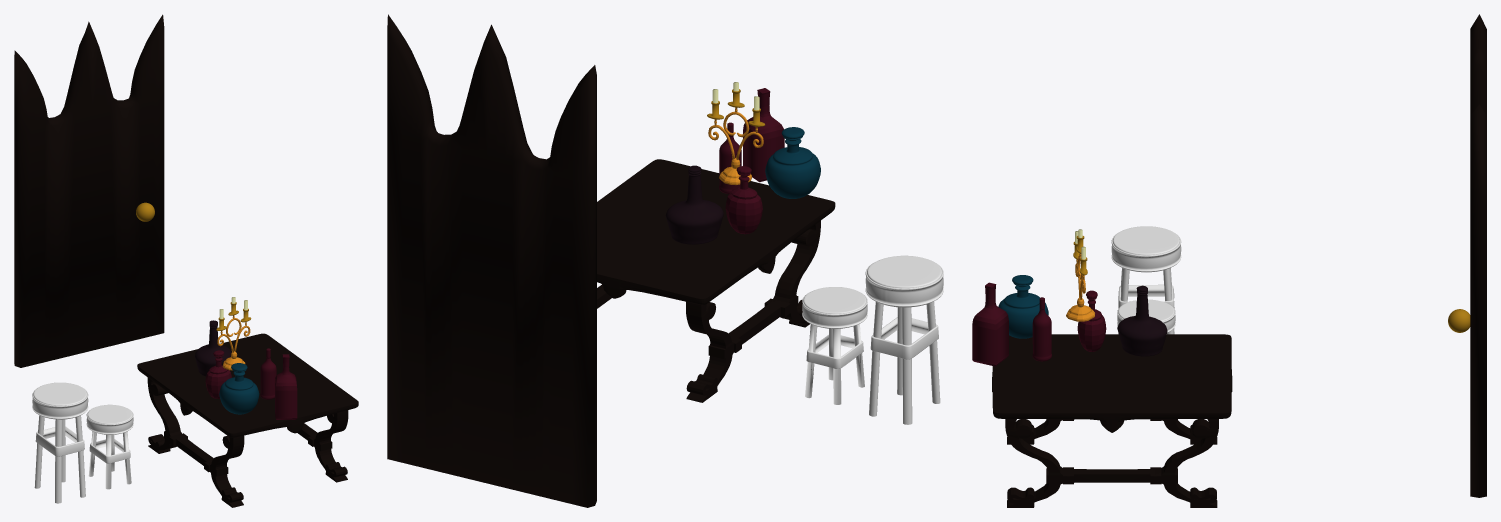
The model's file is newBarObjects.FBX.
3 renders of one model, left to right at view 1: azimuth 30°, elevation 25°; view 2: azimuth 150°, elevation 25°; view 3: azimuth 270°, elevation 25°, orthographic. The views are drawn at different scales.
Parts seen in each view (by area): view 1: Object020, Cube.001, Cylinder002, Cylinder001, botella011, Botella1, Object019, Botella015, botella009, Botella032; view 2: Object020, Cube.001, Cylinder002, Cylinder001, botella011, Botella015, Botella1, Object019, botella009, Botella032; view 3: Cube.001, Object020, Cylinder002, Botella1, Botella015, botella011, Object019, botella009, Botella032, Cylinder001.
Boxes of the visible parts, x1,y1,x2,y2 form: Object020: [14, 14, 164, 367]; Cube.001: [137, 333, 358, 507]; Cylinder002: [32, 382, 88, 503]; Cylinder001: [86, 404, 133, 489]; botella011: [219, 363, 259, 414]; Botella1: [275, 354, 297, 419]; Object019: [216, 297, 251, 370]; Botella015: [195, 320, 231, 376]; botella009: [205, 350, 231, 398]; Botella032: [260, 348, 276, 399]; Object020: [387, 14, 596, 507]; Cube.001: [597, 159, 835, 402]; Cylinder002: [865, 255, 943, 424]; Cylinder001: [802, 287, 867, 404]; botella011: [765, 127, 820, 198]; Botella015: [665, 165, 723, 244]; Botella1: [743, 88, 784, 182]; Object019: [707, 82, 765, 184]; botella009: [725, 166, 762, 234]; Botella032: [719, 122, 741, 193]; Cube.001: [992, 334, 1232, 507]; Object020: [1448, 14, 1486, 497]; Cylinder002: [1111, 226, 1181, 334]; Botella1: [972, 282, 1008, 366]; Botella015: [1117, 285, 1167, 356]; botella011: [998, 275, 1048, 338]; Object019: [1066, 229, 1094, 321]; botella009: [1077, 290, 1106, 351]; Botella032: [1032, 297, 1051, 361]; Cylinder001: [1117, 299, 1175, 332].
Bounding box in the file's own units: 242 × 296 × 329.
